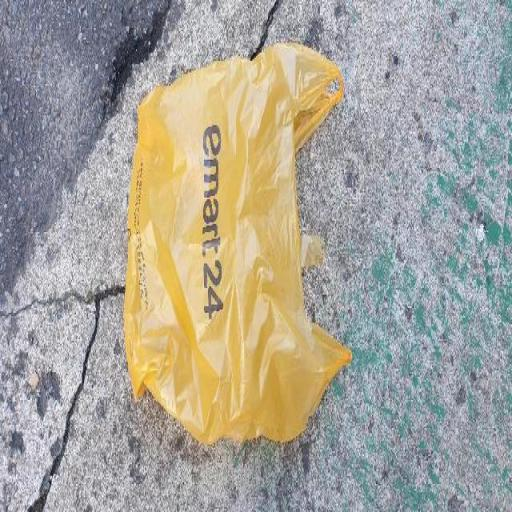plastic-bag: (123, 41, 352, 447)
